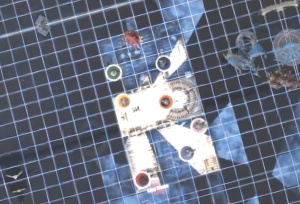blue: (152, 51, 171, 72)
green: (100, 60, 123, 82)
orange: (154, 90, 177, 113)
pink: (187, 114, 209, 136)
red: (131, 168, 153, 191)
violet: (174, 143, 197, 163)
yellow: (111, 89, 133, 110)
